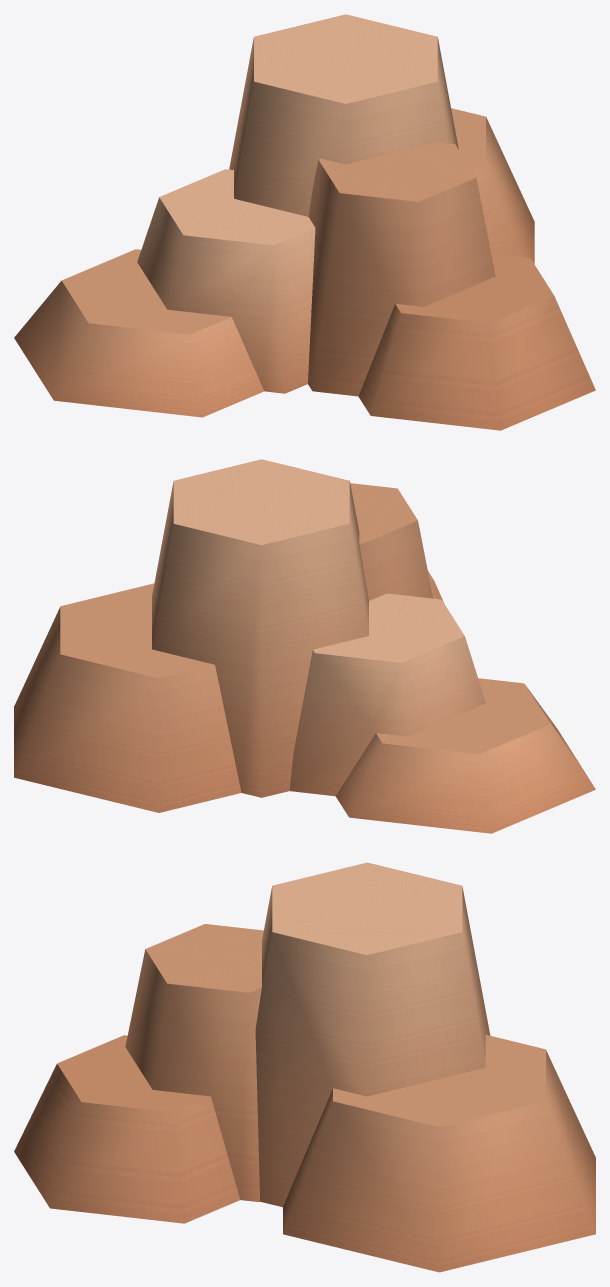
Rendered from resource-stone-large.glb.
3 views of the same model, one above another, from view 1: azimuth 30°, elevation 25°; view 2: azimuth 150°, elevation 25°; view 3: azimuth 270°, elevation 25° (orthographic). The views are drawn at different scales.
Parts seen in each view (by area): view 1: resource-stone-large; view 2: resource-stone-large; view 3: resource-stone-large.
Part boxes in pixels (x1,y1,x2,y2): resource-stone-large: (14, 14, 595, 430); resource-stone-large: (14, 459, 595, 833); resource-stone-large: (14, 862, 595, 1272).
Size of the model in its own units: 0.376 by 0.1602 by 0.3369.
1 material, 1 textured.
